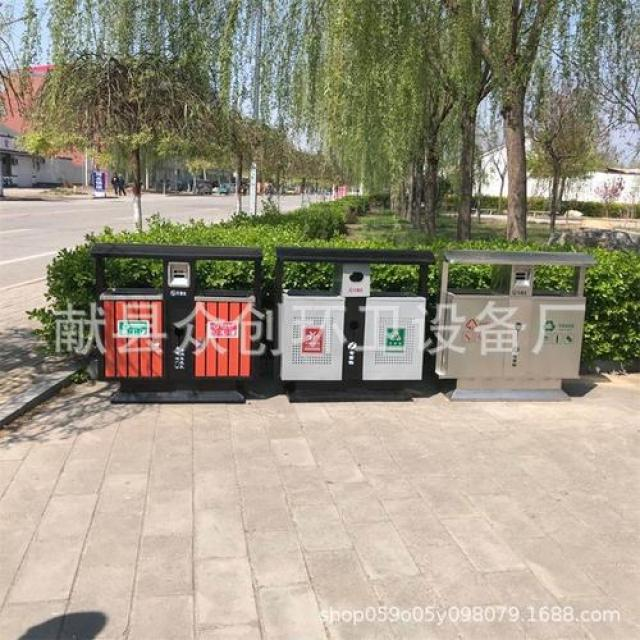garbage_bin: (90, 241, 260, 403), (431, 251, 598, 401), (272, 244, 432, 400)
